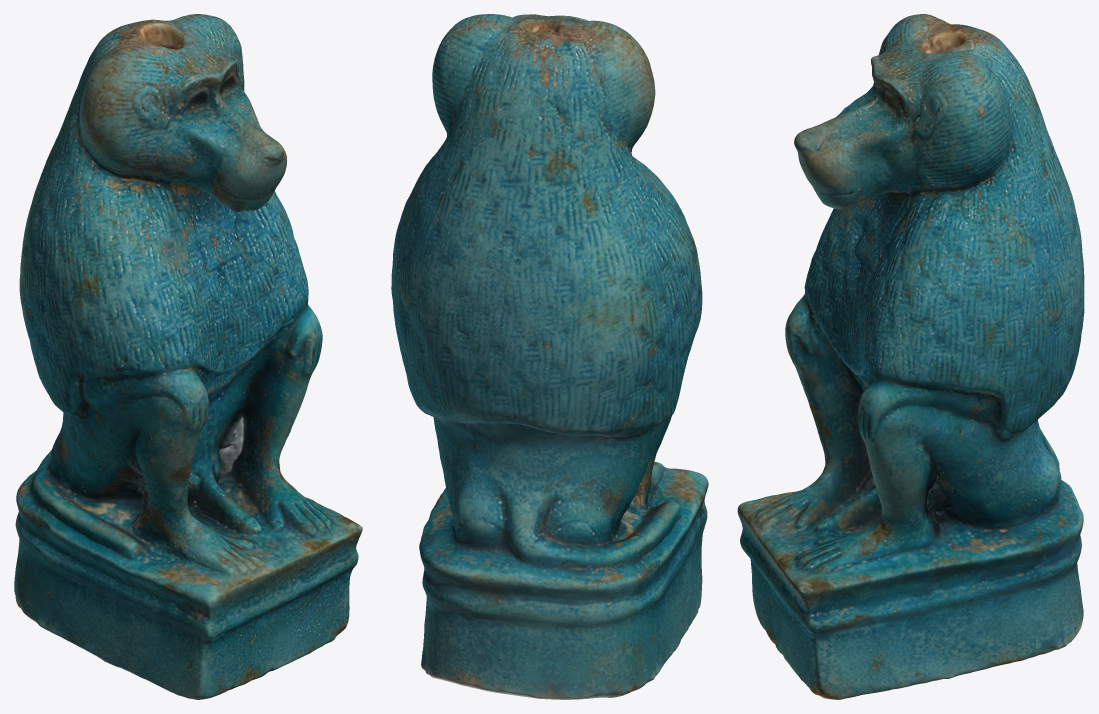
The model's file is ThothAsABaboonFromBLENER2.glb.
3 renders of one model, left to right at view 1: azimuth 30°, elevation 25°; view 2: azimuth 150°, elevation 25°; view 3: azimuth 270°, elevation 25°, orthographic. The views are drawn at different scales.
Parts seen in each view (by area): view 1: Object_2; view 2: Object_2; view 3: Object_2.
Part boxes in pixels (<box>): Object_2: <box>14,14,362,699</box>; Object_2: <box>391,14,708,699</box>; Object_2: <box>737,14,1084,699</box>.
Size of the model in its own units: 0.2355 by 0.5254 by 0.2722.
Materials: 1 (1 with a texture image).
